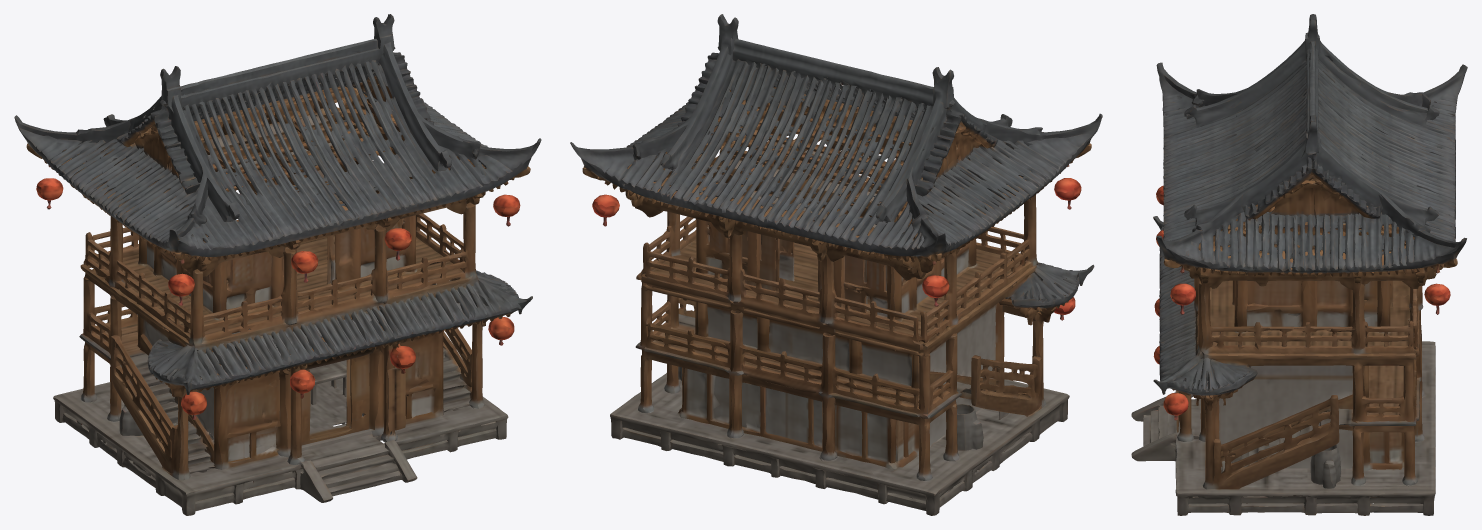
Rendered from street-inn.glb.
3 renders of one model, left to right at view 1: azimuth 30°, elevation 25°; view 2: azimuth 150°, elevation 25°; view 3: azimuth 270°, elevation 25°, orthographic. The views are drawn at different scales.
Parts seen in each view (by area): view 1: world; view 2: world; view 3: world.
Part boxes in pixels (bbox=[...]): world: bbox=[14, 14, 541, 515]; world: bbox=[570, 14, 1102, 515]; world: bbox=[1131, 14, 1467, 515].
Size of the model in its own units: 0.5238 by 0.52 by 0.4241.
1 material, 1 textured.
